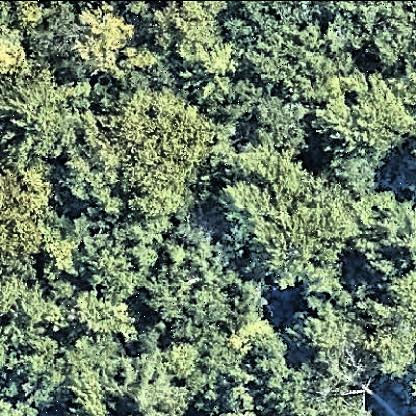tree-top: (219, 149, 359, 295), (77, 81, 210, 225), (143, 227, 242, 333), (315, 72, 409, 168), (284, 296, 374, 386), (244, 1, 328, 97), (74, 214, 162, 300), (120, 329, 198, 416), (153, 3, 237, 71), (65, 327, 128, 416), (1, 160, 56, 261), (1, 76, 73, 150), (9, 326, 74, 404), (337, 1, 414, 65), (362, 299, 416, 385), (355, 196, 416, 267), (246, 81, 310, 147), (74, 6, 132, 78), (29, 4, 77, 86), (65, 292, 141, 343), (245, 328, 295, 389), (13, 277, 65, 331)
